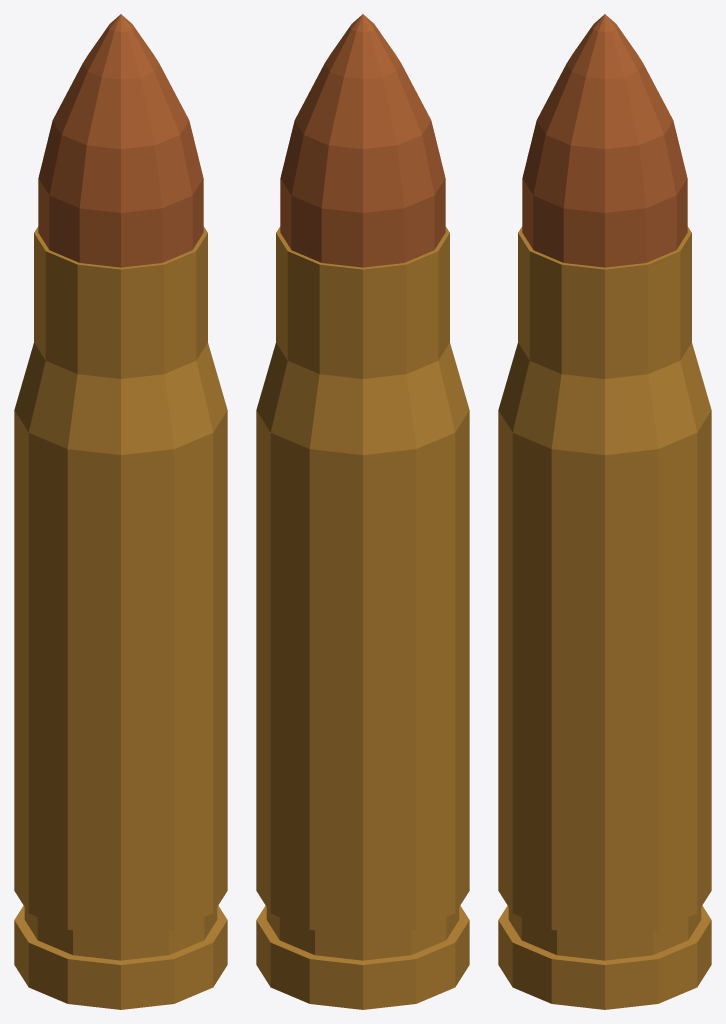
File: Akbullet.fbx
The picture shows the model from 3 angles, left to right: view 1: azimuth 30°, elevation 25°; view 2: azimuth 150°, elevation 25°; view 3: azimuth 270°, elevation 25°; orthographic projection.
Parts seen in each view (by area): view 1: Cylinder; view 2: Cylinder; view 3: Cylinder.
Part boxes in pixels (bbox=[...]): Cylinder: bbox=[14, 14, 227, 1009]; Cylinder: bbox=[256, 14, 469, 1009]; Cylinder: bbox=[498, 14, 711, 1009].
Size of the model in its own units: 77.51 by 381 by 77.51.
1 material, 1 textured.
